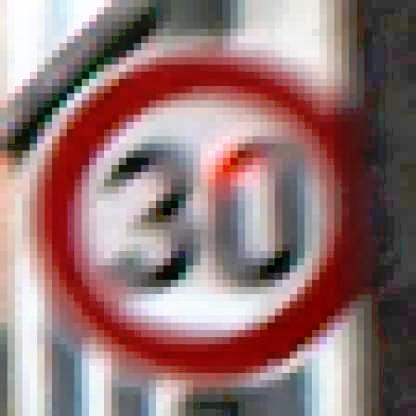Speed Limit -30-: (17, 42, 364, 390)
